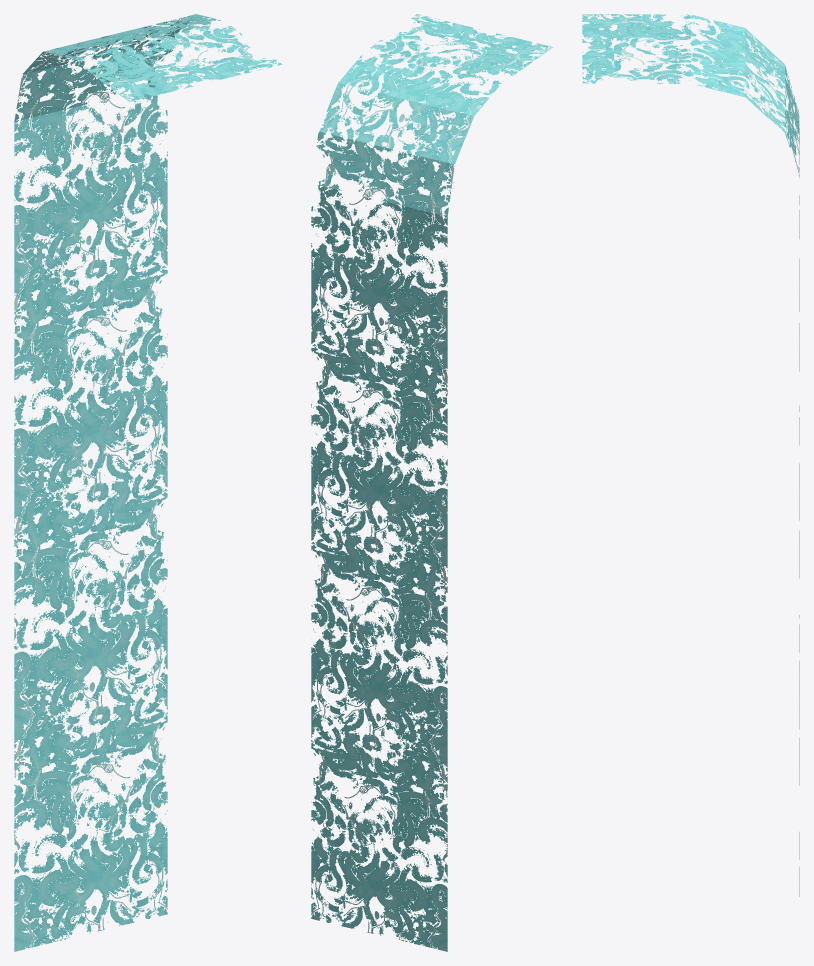
The model's file is polygonalmind-momuspark-065.glb.
3 views of the same model, side by side, from view 1: azimuth 30°, elevation 25°; view 2: azimuth 150°, elevation 25°; view 3: azimuth 270°, elevation 25° (orthographic). The views are drawn at different scales.
Parts seen in each view (by area): view 1: Water_Fall_02_Art; view 2: Water_Fall_02_Art; view 3: Water_Fall_02_Art.
Boxes of the visible parts, box(x1,y1,x2,y2) form: Water_Fall_02_Art: box(14, 14, 282, 951); Water_Fall_02_Art: box(311, 14, 552, 951); Water_Fall_02_Art: box(582, 14, 799, 896).
Size of the model in its own units: 2.59 by 14.87 by 3.38.
1 material, 1 textured.
